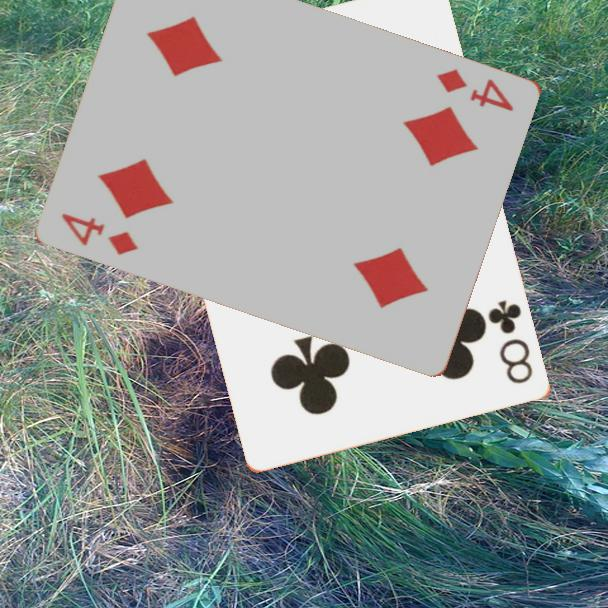c08: (485, 296, 536, 387)
d04: (433, 65, 518, 114), (58, 209, 142, 258)
